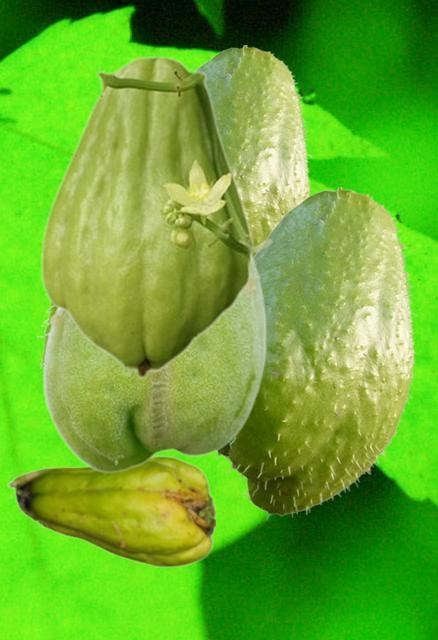sayote: (39, 55, 273, 378), (213, 187, 416, 519), (41, 255, 266, 472), (6, 455, 214, 567), (197, 45, 311, 243)
